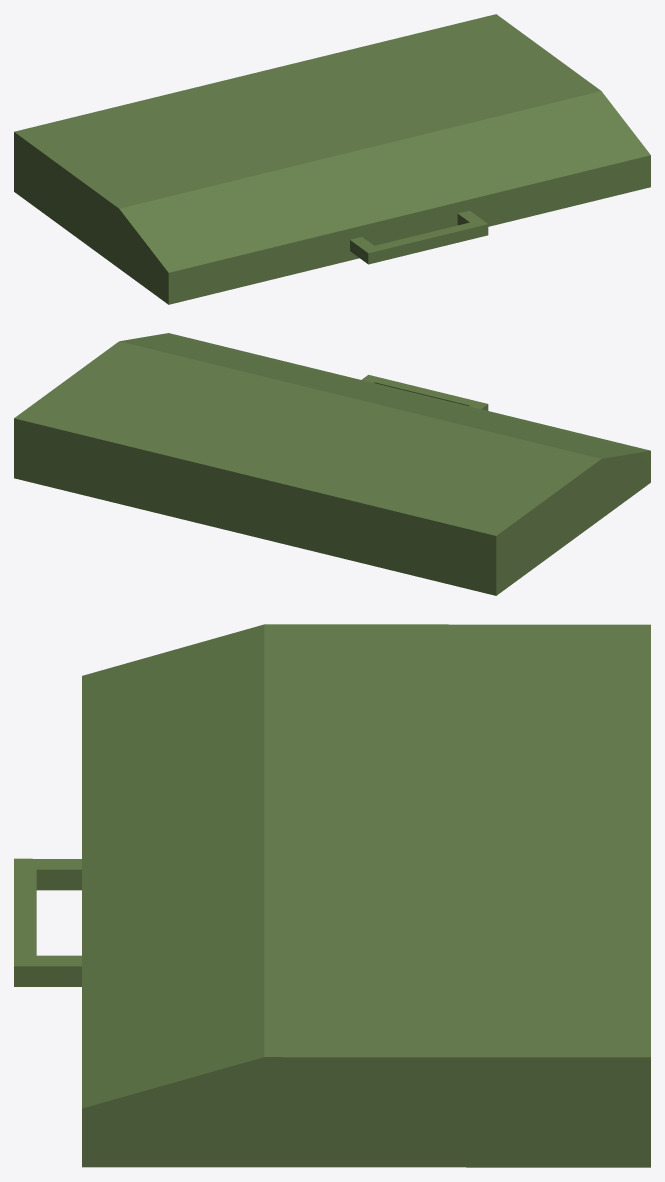
File: Grill_02.fbx
3 views of the same model, one above another, from view 1: azimuth 30°, elevation 25°; view 2: azimuth 150°, elevation 25°; view 3: azimuth 270°, elevation 25° (orthographic). The views are drawn at different scales.
Parts seen in each view (by area): view 1: Grill_02; view 2: Grill_02; view 3: Grill_02.
Part boxes in pixels (x1,y1,x2,y2): Grill_02: (14,14,650,304); Grill_02: (14,333,650,595); Grill_02: (14,624,650,1167).
Bounding box in the file's own units: 0.9 × 0.1071 × 0.5599.
